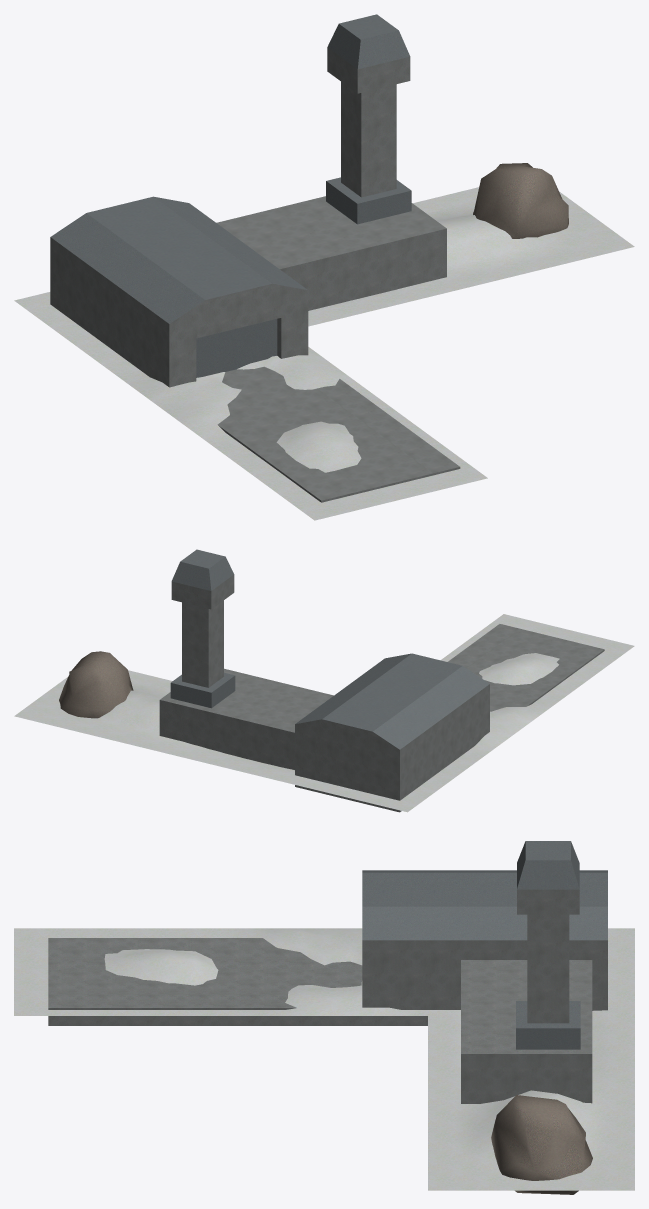
The model's file is bigcorner_2.obj.
3 renders of one model, top to bottom at view 1: azimuth 30°, elevation 25°; view 2: azimuth 150°, elevation 25°; view 3: azimuth 270°, elevation 25°, orthographic. The views are drawn at different scales.
Parts seen in each view (by area): view 1: bigcorner_2_Cube.006; view 2: bigcorner_2_Cube.006; view 3: bigcorner_2_Cube.006.
Part boxes in pixels (x1,y1,x2,y2): bigcorner_2_Cube.006: [14, 14, 634, 520]; bigcorner_2_Cube.006: [14, 549, 634, 812]; bigcorner_2_Cube.006: [14, 841, 634, 1194].
Size of the model in its own units: 1536 by 715 by 1536.
